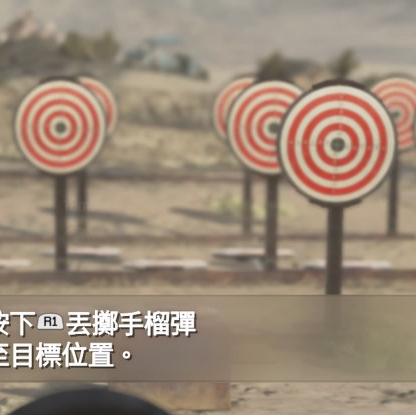target: (278, 82, 397, 208), (13, 77, 107, 178), (225, 78, 275, 179)
